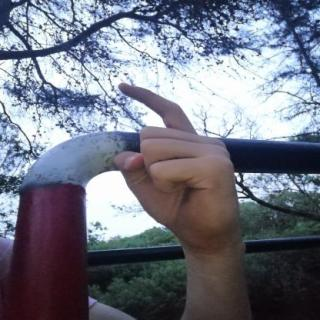RAA: (104, 73, 251, 253)
